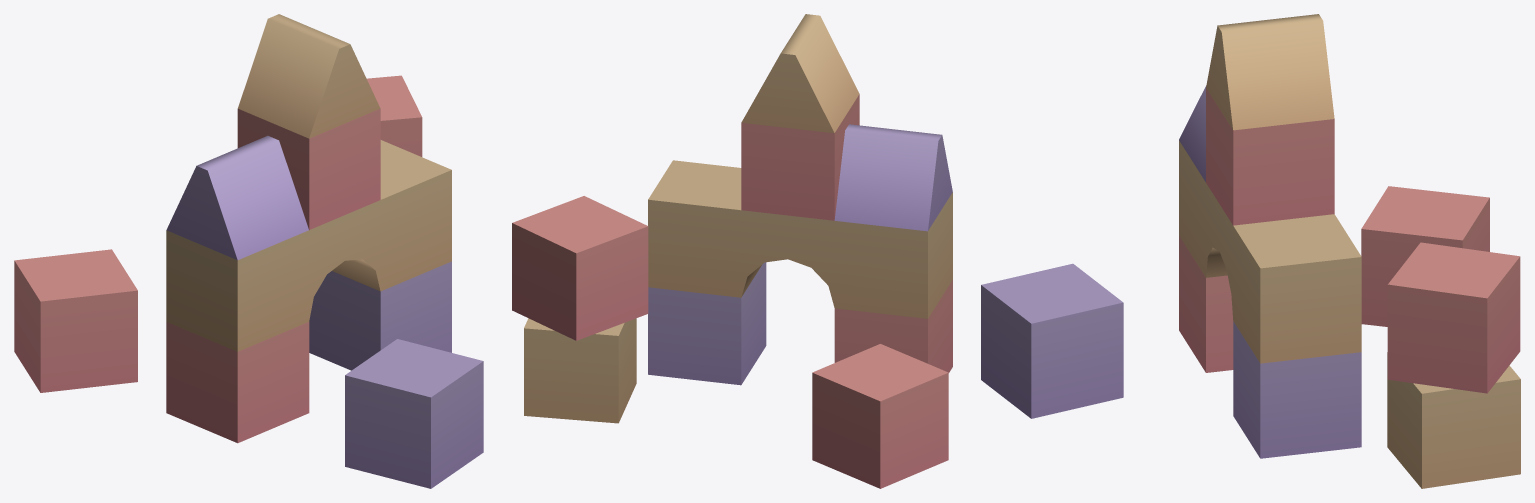
The model's file is toy-blocks.glb.
3 renders of one model, left to right at view 1: azimuth 30°, elevation 25°; view 2: azimuth 150°, elevation 25°; view 3: azimuth 270°, elevation 25°, orthographic. The views are drawn at different scales.
Visible parts, largest first — view 1: toy-blocks; view 2: toy-blocks; view 3: toy-blocks.
Part boxes in pixels (x1,y1,x2,y2): toy-blocks: (14,14,483,488); toy-blocks: (512,14,952,488); toy-blocks: (981,14,1520,488).
Bounding box in the file's own units: 0.3324 × 0.2728 × 0.3651.
